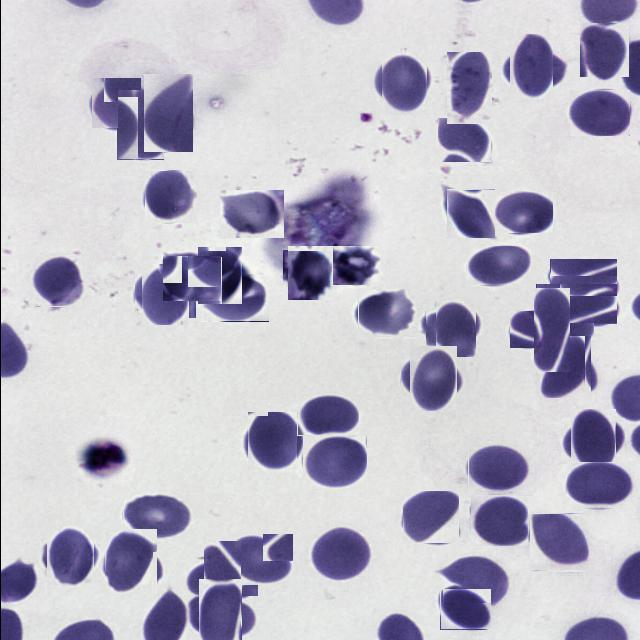red blood cell: (143, 74, 192, 152), (521, 299, 581, 360), (101, 532, 160, 592), (122, 491, 193, 540), (226, 534, 292, 586), (303, 436, 367, 489), (467, 444, 532, 496), (530, 514, 588, 572), (116, 90, 163, 160), (536, 339, 593, 396), (535, 284, 616, 324), (446, 52, 491, 124), (442, 554, 508, 603), (201, 274, 268, 322), (404, 349, 460, 406), (376, 53, 432, 109), (502, 40, 558, 96), (190, 587, 249, 640), (219, 190, 283, 238), (566, 462, 630, 509), (565, 414, 620, 468), (194, 549, 248, 604), (469, 496, 527, 547), (357, 288, 416, 338), (42, 529, 96, 583), (138, 267, 192, 321), (244, 414, 298, 468), (402, 491, 458, 543), (549, 259, 616, 302), (30, 254, 83, 307), (314, 528, 370, 578), (569, 90, 629, 136), (161, 256, 220, 302), (144, 170, 196, 222), (194, 250, 245, 302), (579, 23, 628, 77), (466, 246, 530, 286), (296, 395, 358, 436), (430, 302, 480, 352), (90, 78, 140, 128), (284, 248, 334, 297), (494, 192, 552, 233), (446, 189, 494, 238), (437, 118, 490, 162), (439, 589, 490, 630), (331, 246, 380, 286)
